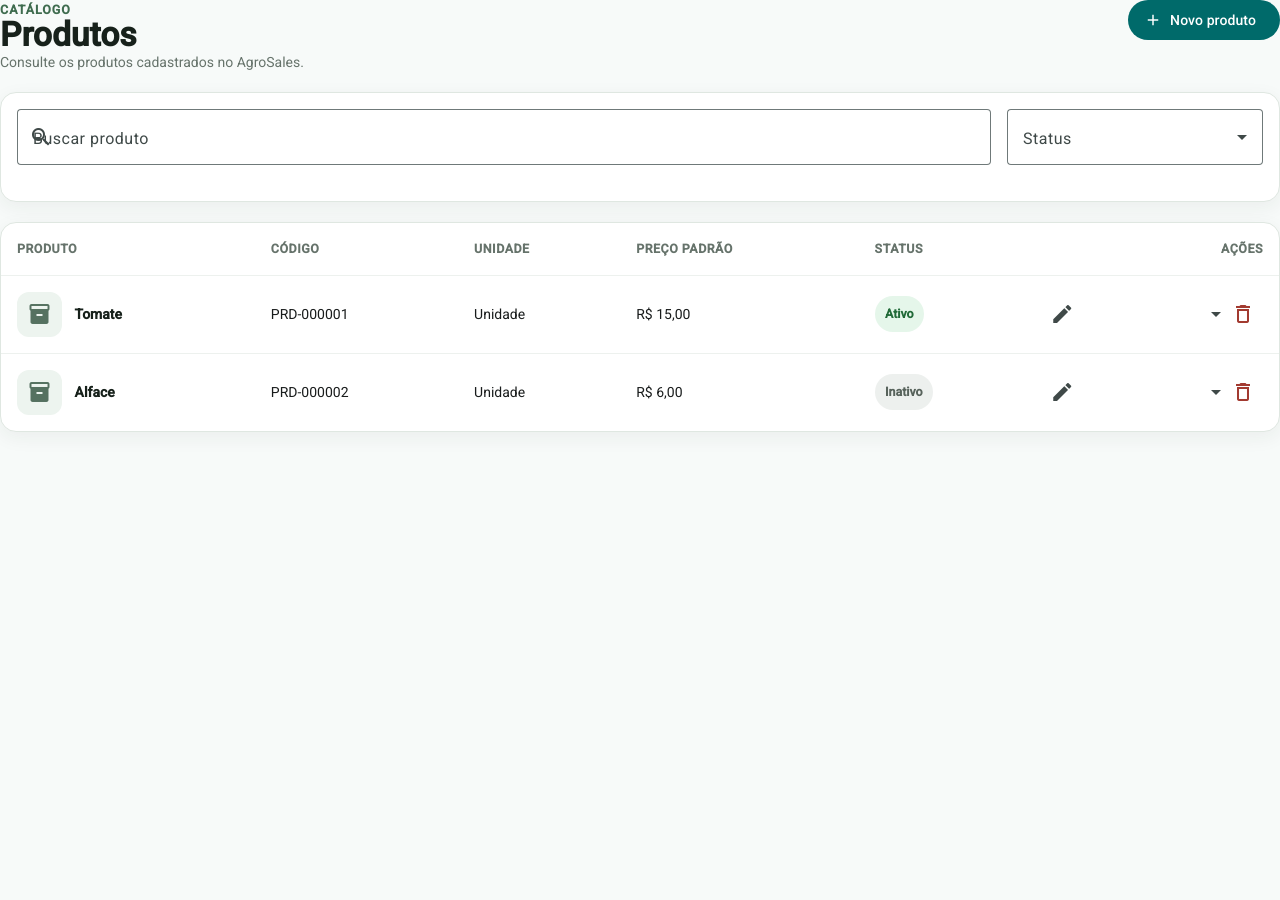
Test: ProductsComponent › opens an empty panel for a new product
What coordinates should you click on to do the following:
click the button with test id "new-product-button"
I would click on:
 (1204, 20)
Its box is [1128,0,1279,40].
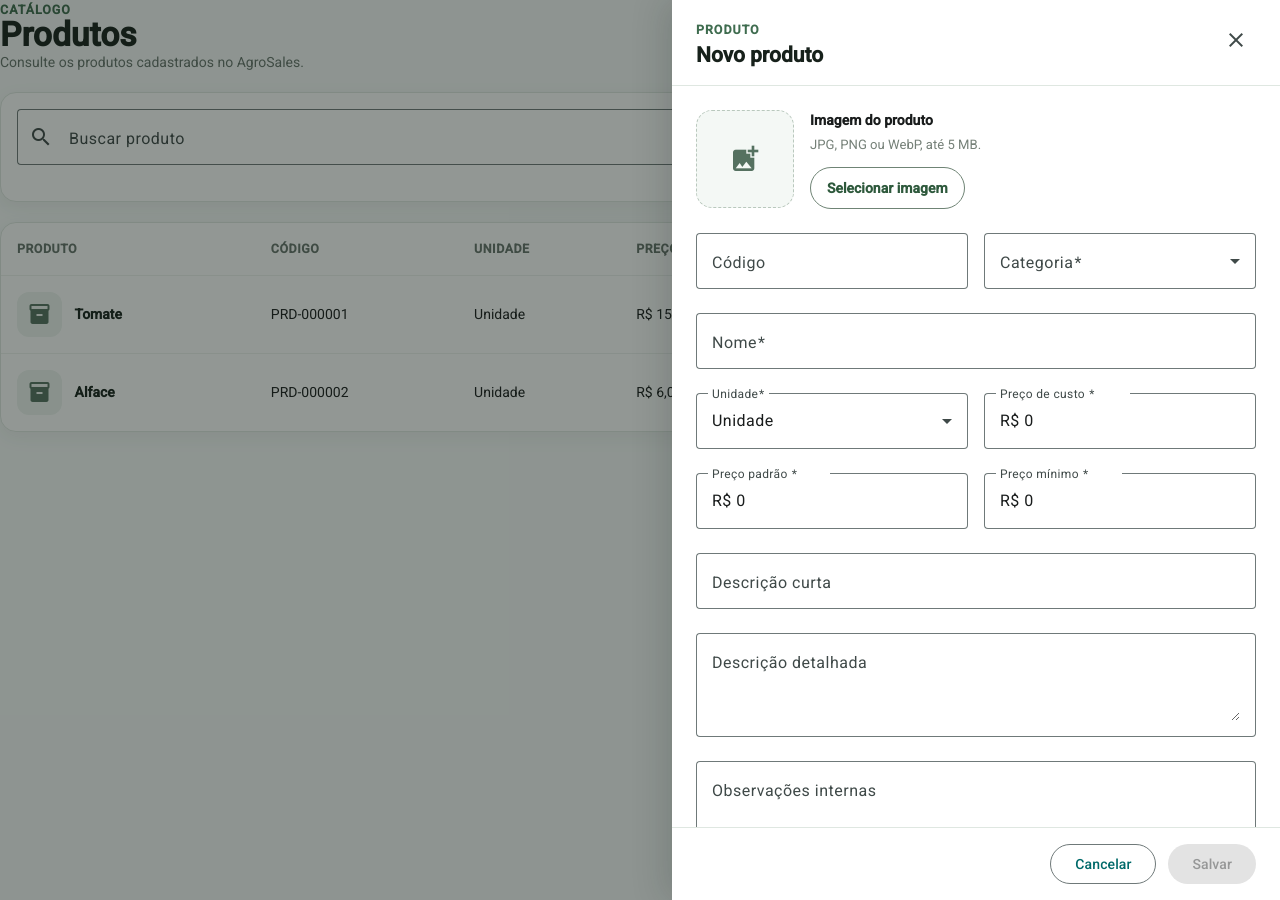
Check: the element with test id "product-panel" that starts with "Produto" is shown
